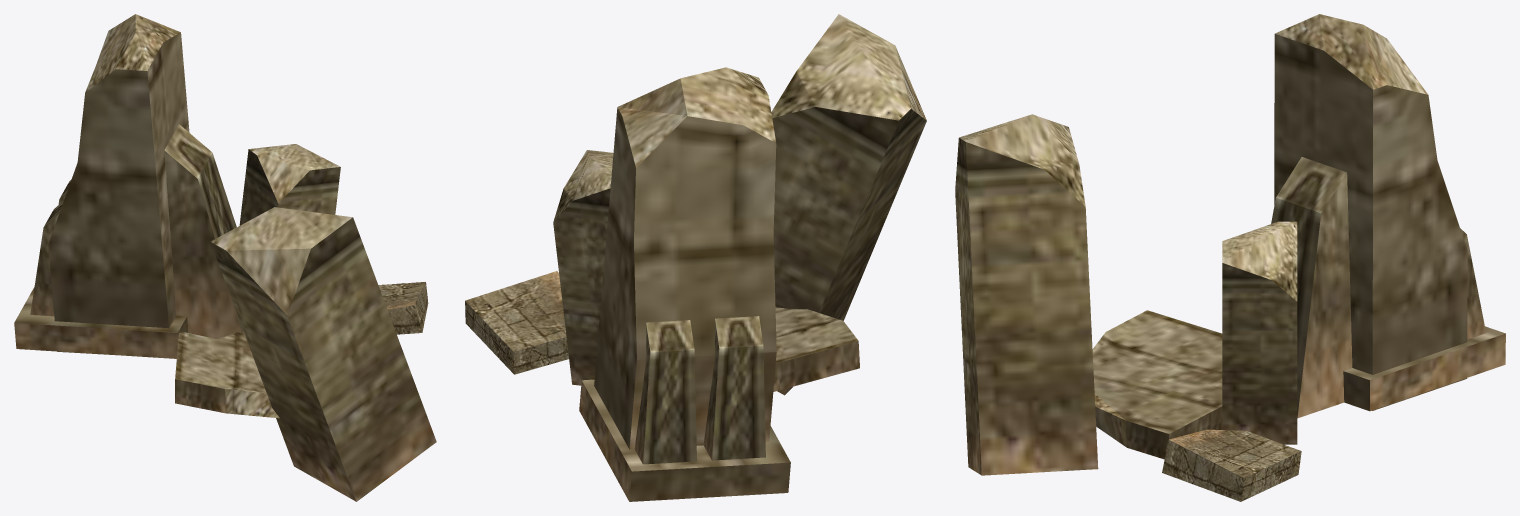
The picture shows the model from 3 angles, left to right: view 1: azimuth 30°, elevation 25°; view 2: azimuth 150°, elevation 25°; view 3: azimuth 270°, elevation 25°; orthographic projection. The views are drawn at different scales.
Parts seen in each view (by area): view 1: a30; view 2: a30; view 3: a30.
Boxes of the visible parts, <box> form: a30: <box>14,14,436,501</box>; a30: <box>465,14,926,501</box>; a30: <box>955,14,1505,501</box>.
Bounding box in the file's own units: 920 × 942 × 1126.
